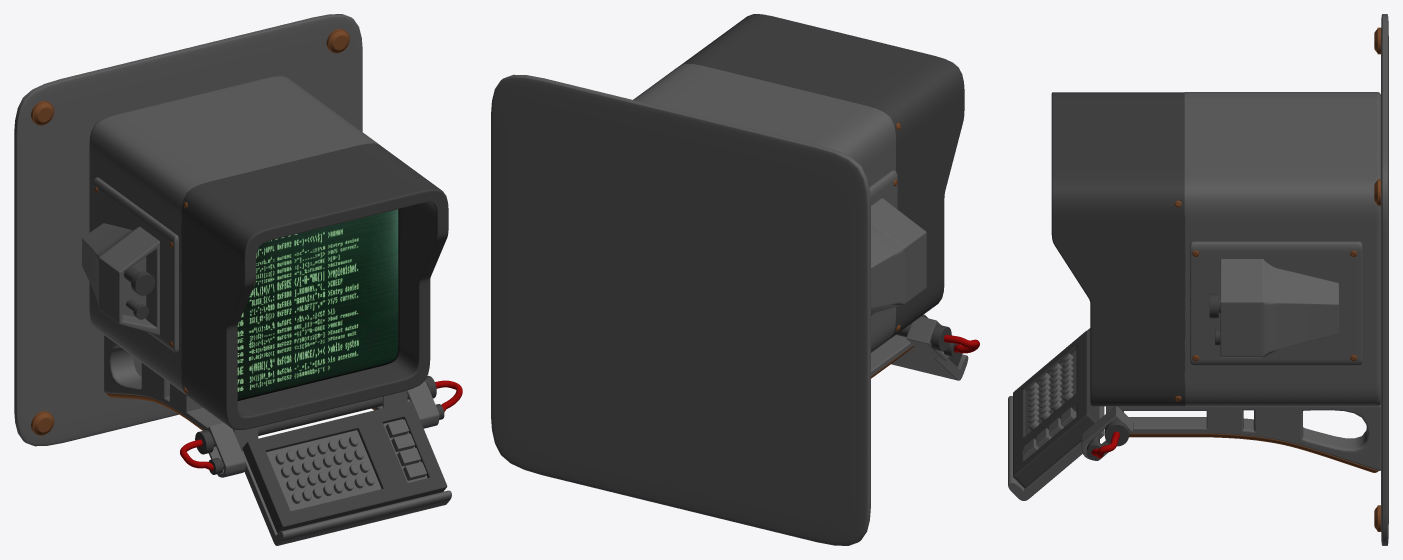
Rendered from fallout_terminal.glb.
3 views of the same model, side by side, from view 1: azimuth 30°, elevation 25°; view 2: azimuth 150°, elevation 25°; view 3: azimuth 270°, elevation 25° (orthographic). The views are drawn at different scales.
Visible parts, largest first — view 1: polySurface44; view 2: polySurface44; view 3: polySurface44.
Part boxes in pixels (x1,y1,x2,y2): polySurface44: [14, 14, 462, 545]; polySurface44: [491, 14, 979, 545]; polySurface44: [1008, 14, 1388, 545].
Bounding box in the file's own units: 16.76 × 16.76 × 15.2.
Materials: 7 (1 with a texture image).
